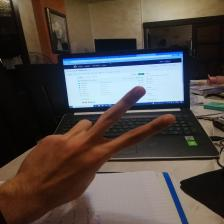two: (20, 86, 179, 196)
